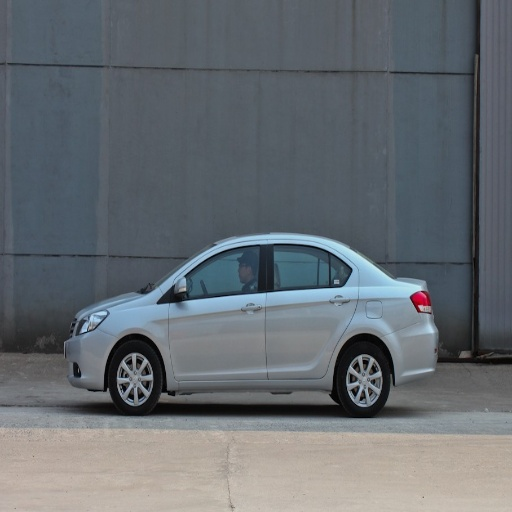back_left_door: (266, 243, 356, 377)
front_left_door: (169, 243, 267, 378)
